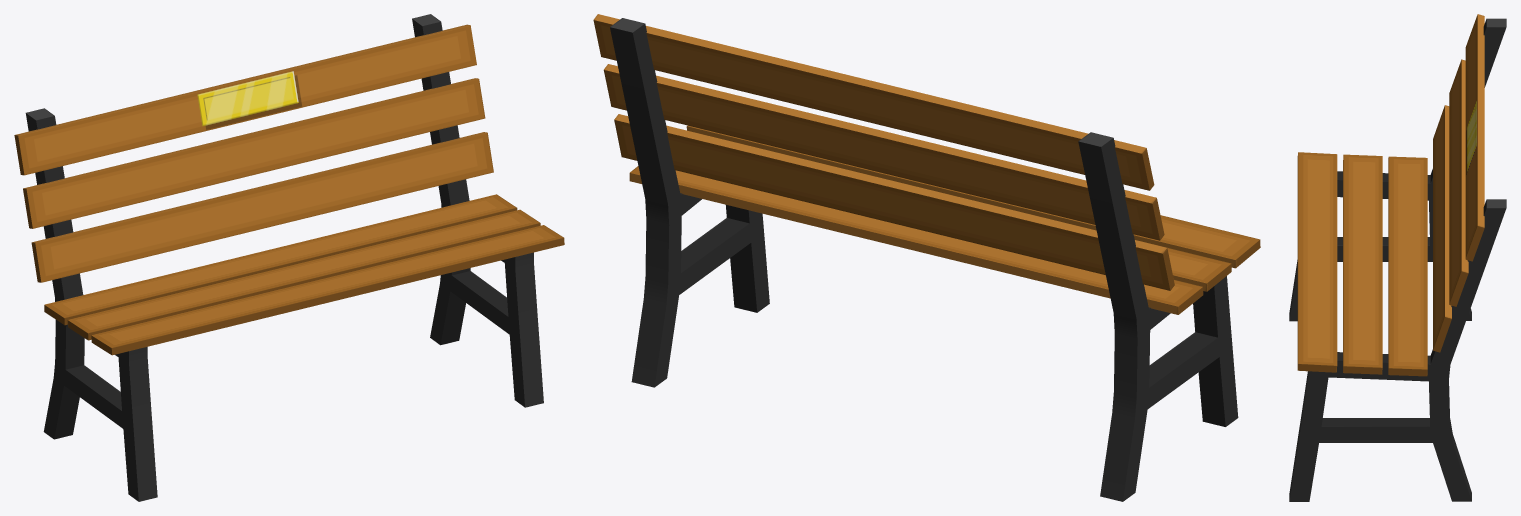
The model's file is city_bench.fbx.
3 views of the same model, side by side, from view 1: azimuth 30°, elevation 25°; view 2: azimuth 150°, elevation 25°; view 3: azimuth 270°, elevation 25° (orthographic). The views are drawn at different scales.
Parts seen in each view (by area): view 1: city:polySurface319; view 2: city:polySurface319; view 3: city:polySurface319.
Boxes of the visible parts, left/top/right/bottom form: city:polySurface319: left=14, top=14, right=564, bottom=501; city:polySurface319: left=593, top=14, right=1260, bottom=501; city:polySurface319: left=1289, top=14, right=1506, bottom=501.
Bounding box in the file's own units: 1.93 × 1.25 × 0.8366.
